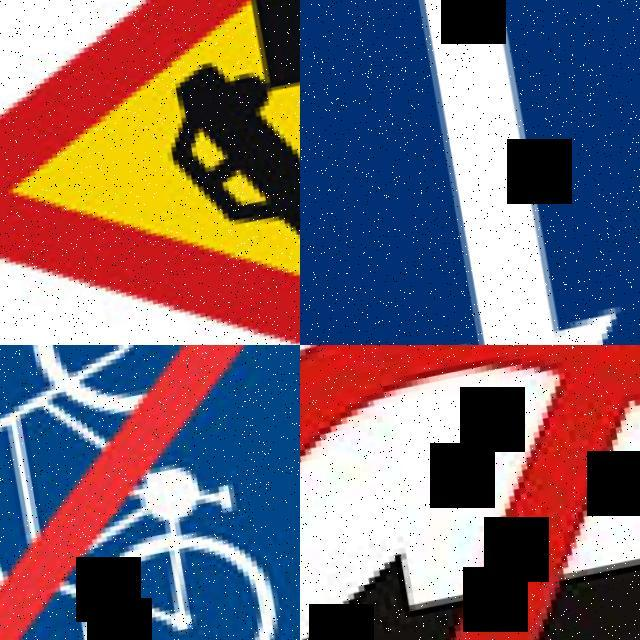112: (0, 345, 300, 640)
145: (0, 0, 300, 345)
No entry: (300, 345, 640, 640)
Turn Right: (300, 0, 640, 345)
